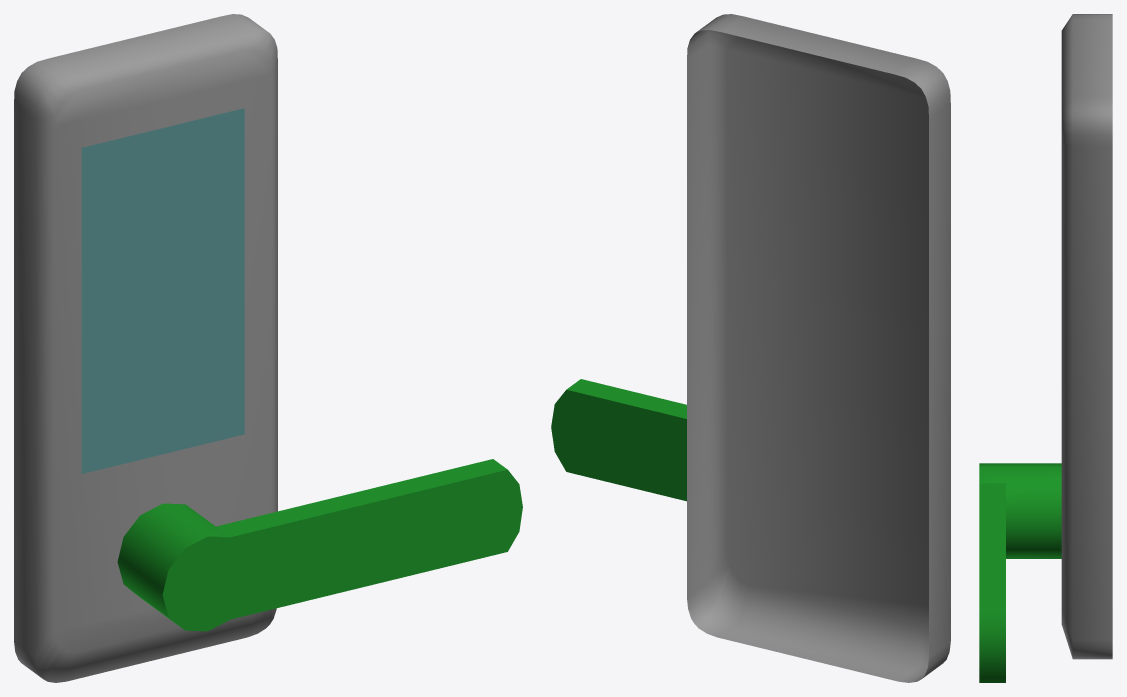
File: doorlock1.fbx
3 renders of one model, left to right at view 1: azimuth 30°, elevation 25°; view 2: azimuth 150°, elevation 25°; view 3: azimuth 270°, elevation 25°, orthographic. The views are drawn at different scales.
Visible parts, largest first — view 1: doorlock1; view 2: doorlock1; view 3: doorlock1.
Part boxes in pixels (x1,y1,x2,y2): doorlock1: (14,14,522,682); doorlock1: (551,14,950,682); doorlock1: (979,14,1112,682).
Size of the model in its own units: 14.41 by 19.14 by 4.17.
